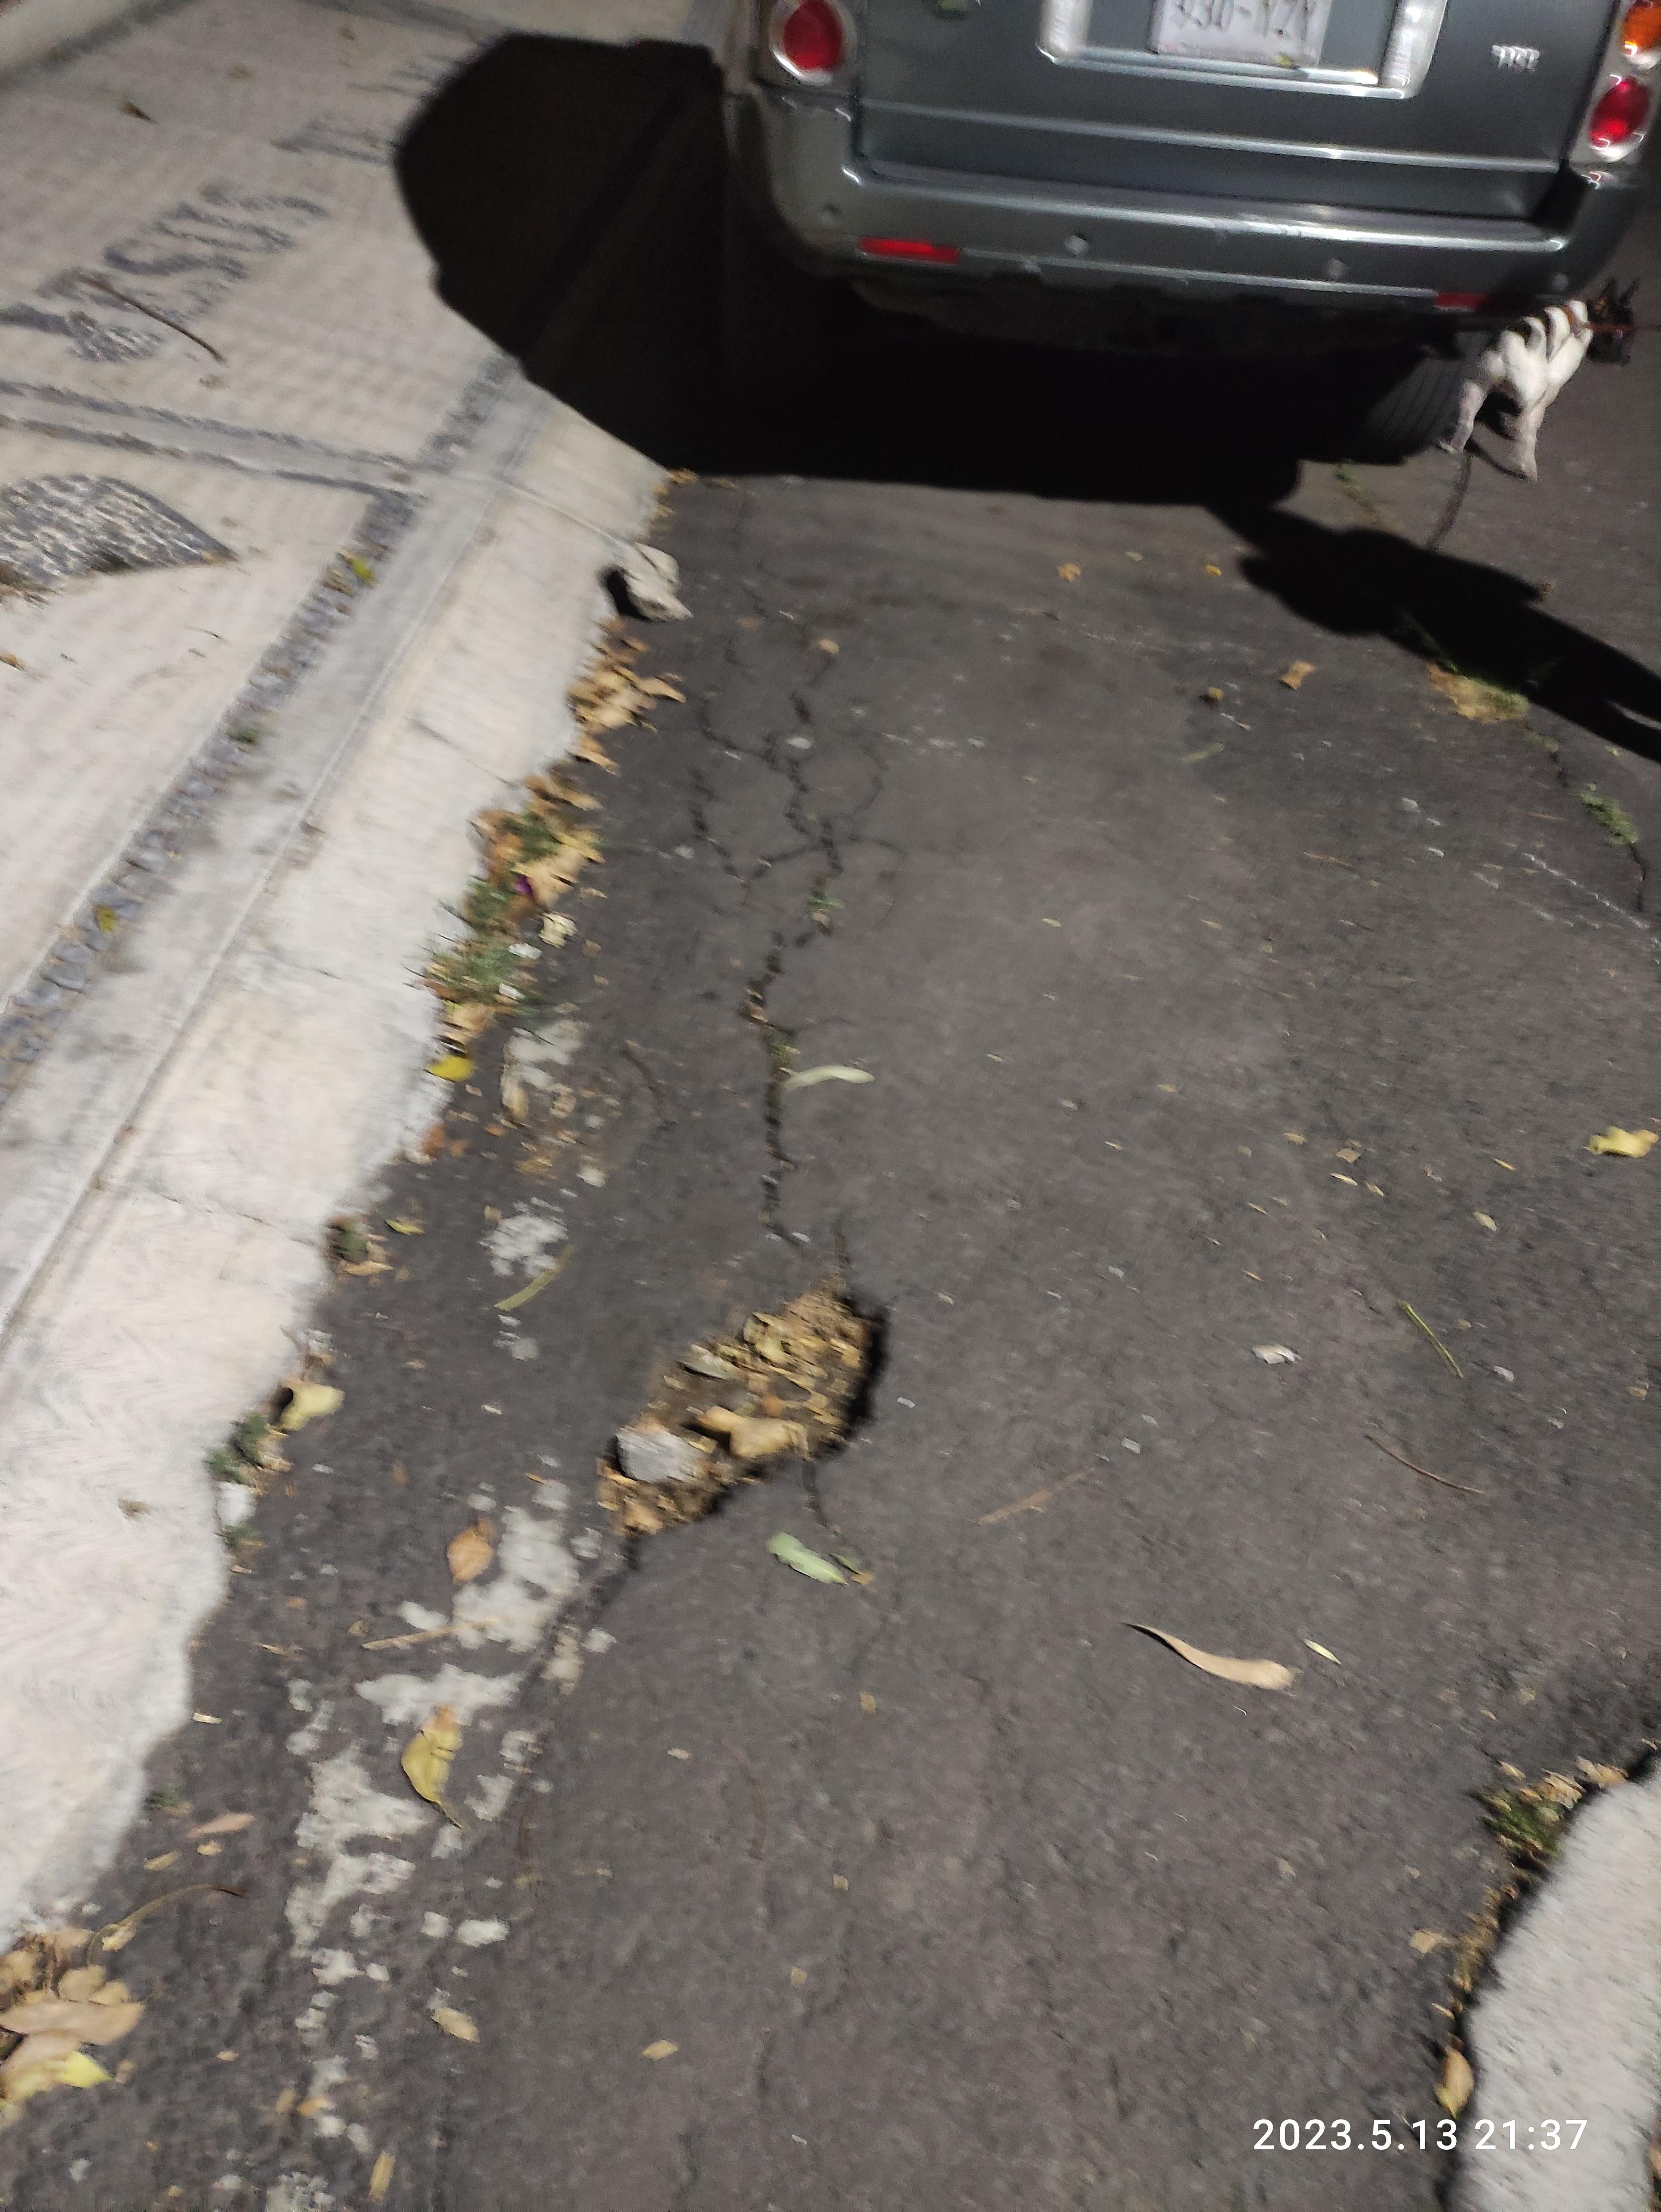alligator-crack: (672, 469, 911, 1031)
crack: (715, 921, 844, 1256)
pothole: (581, 1263, 926, 1556)
